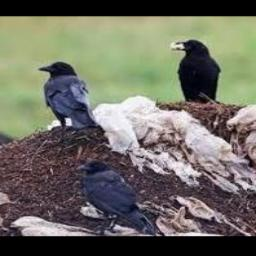Crow: (76, 160, 156, 235), (36, 61, 98, 129), (172, 40, 220, 102)
